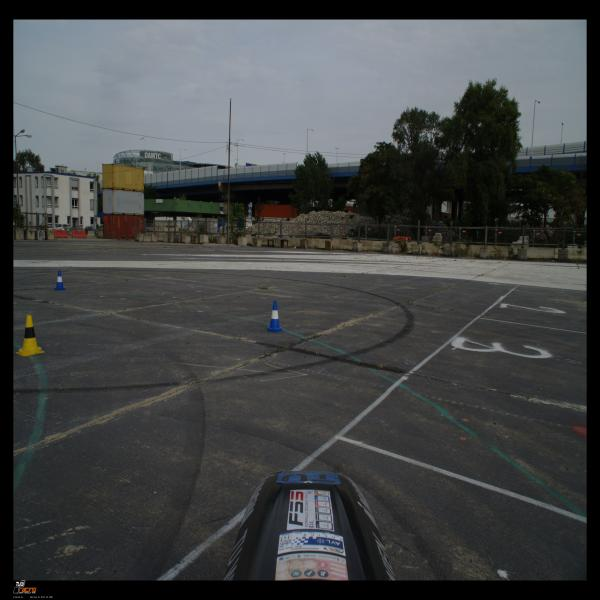blue_cone: (264, 301, 284, 333), (53, 271, 67, 290)
yellow_cone: (15, 315, 45, 356)
